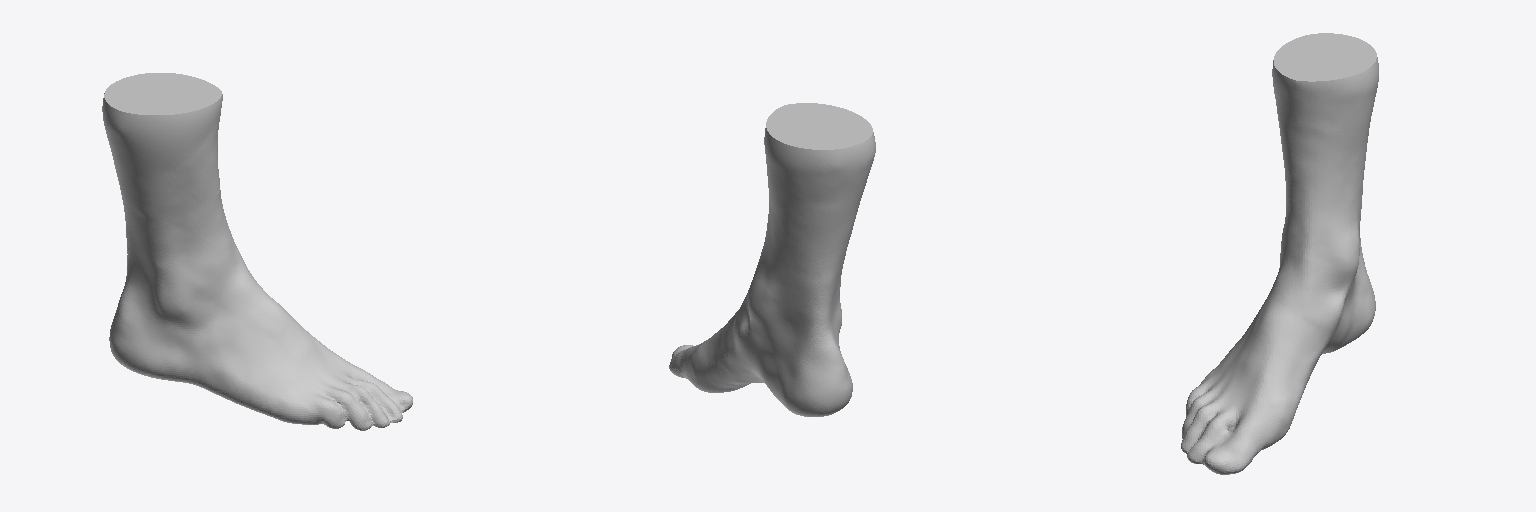
Rendered from polhemus_foot.obj.
3 renders of one model, left to right at view 1: azimuth 30°, elevation 25°; view 2: azimuth 150°, elevation 25°; view 3: azimuth 270°, elevation 25°, orthographic.
Bounding box in the file's own units: 1.6 × 2 × 1.1.